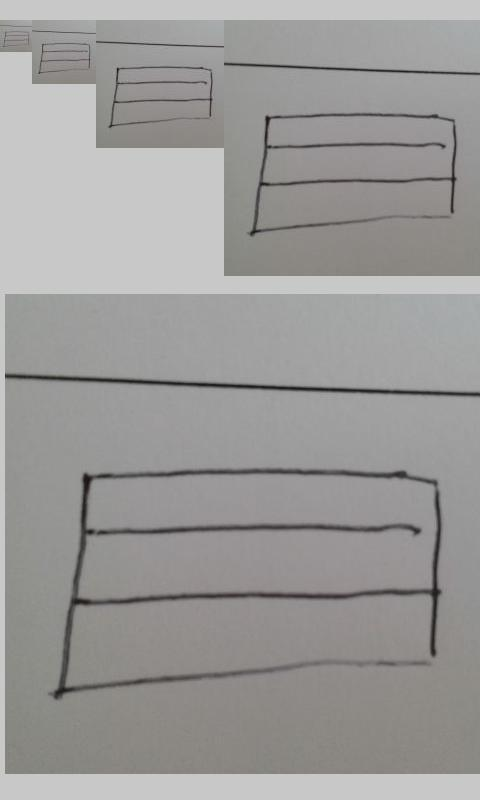list_view: (58, 466, 444, 695), (253, 112, 458, 235), (110, 65, 214, 128), (38, 42, 91, 73), (3, 30, 30, 48)
